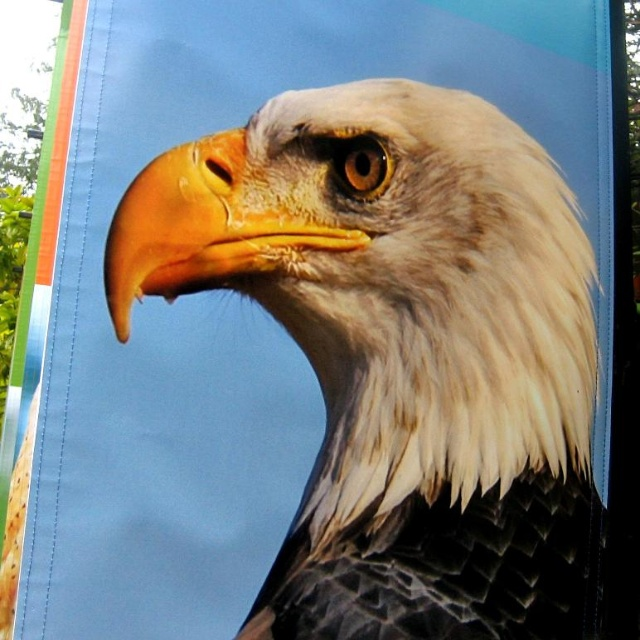Eagle: (100, 70, 635, 640)
